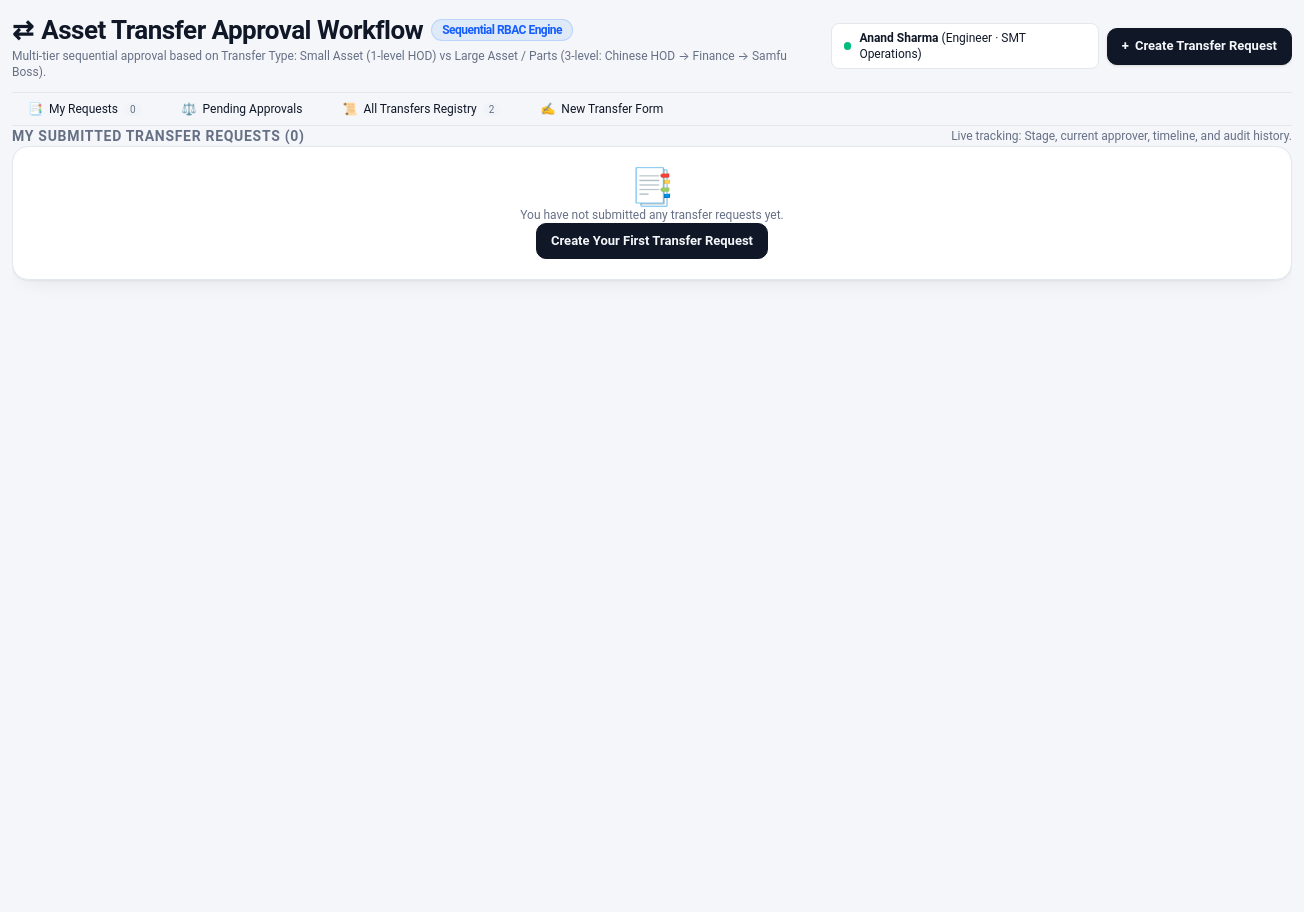
Asset Transfer Approval Workflow (RBAC & Sequential Stage Invariants) › Requirement 2: Large Asset Transfer requires 3 sequential approvals (Chinese HOD -> Finance -> Samfu Boss)
# Switch to New Transfer tab
Click the button "✍️ New Transfer Form" at {"x": 602, "y": 109}, box [524,93,679,125]
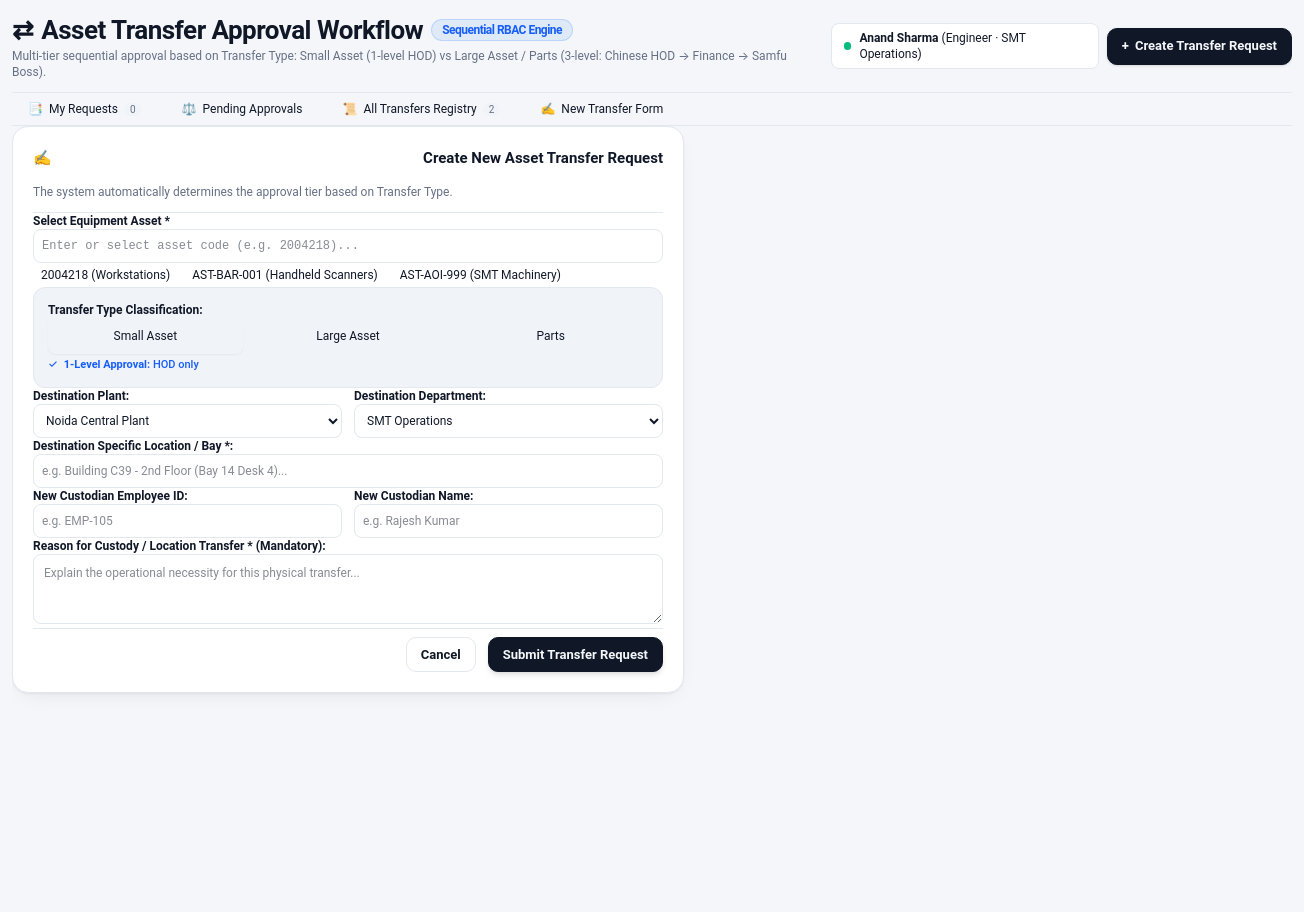
# Select Large Asset (High cost / Machinery)
Click the button "AST-AOI-999 (SMT Machinery)" at {"x": 480, "y": 275}, box [392,263,569,287]
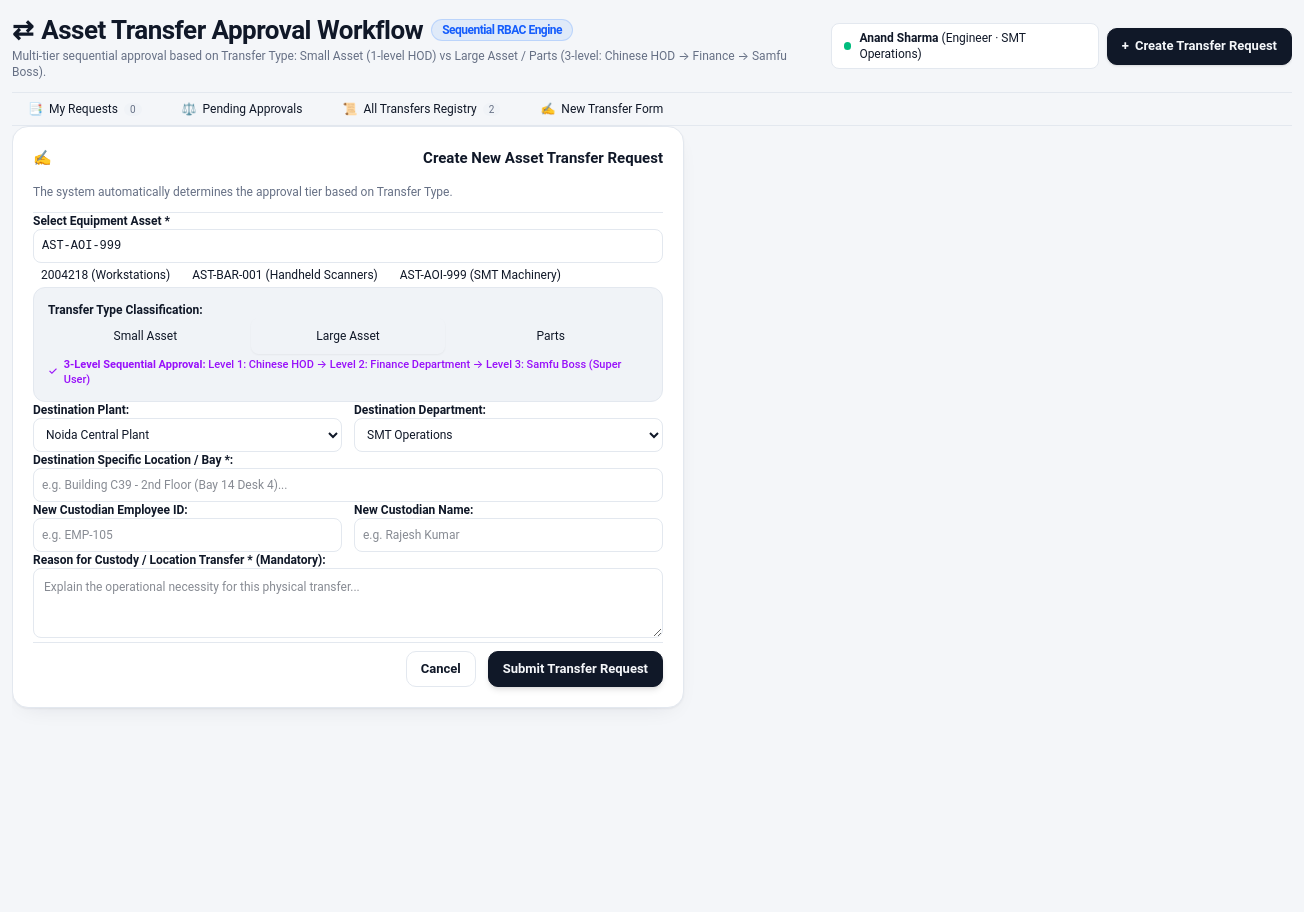
Now the text "3-Level Sequential Approval:" is shown, box [64,358,206,371]
# Fill form and submit
Type "D197-2F Line 4" into the field with placeholder "e.g. Building C39 - 2nd Floor (Bay 14 Desk 4)..." at {"x": 348, "y": 485}, box [33,468,663,502]
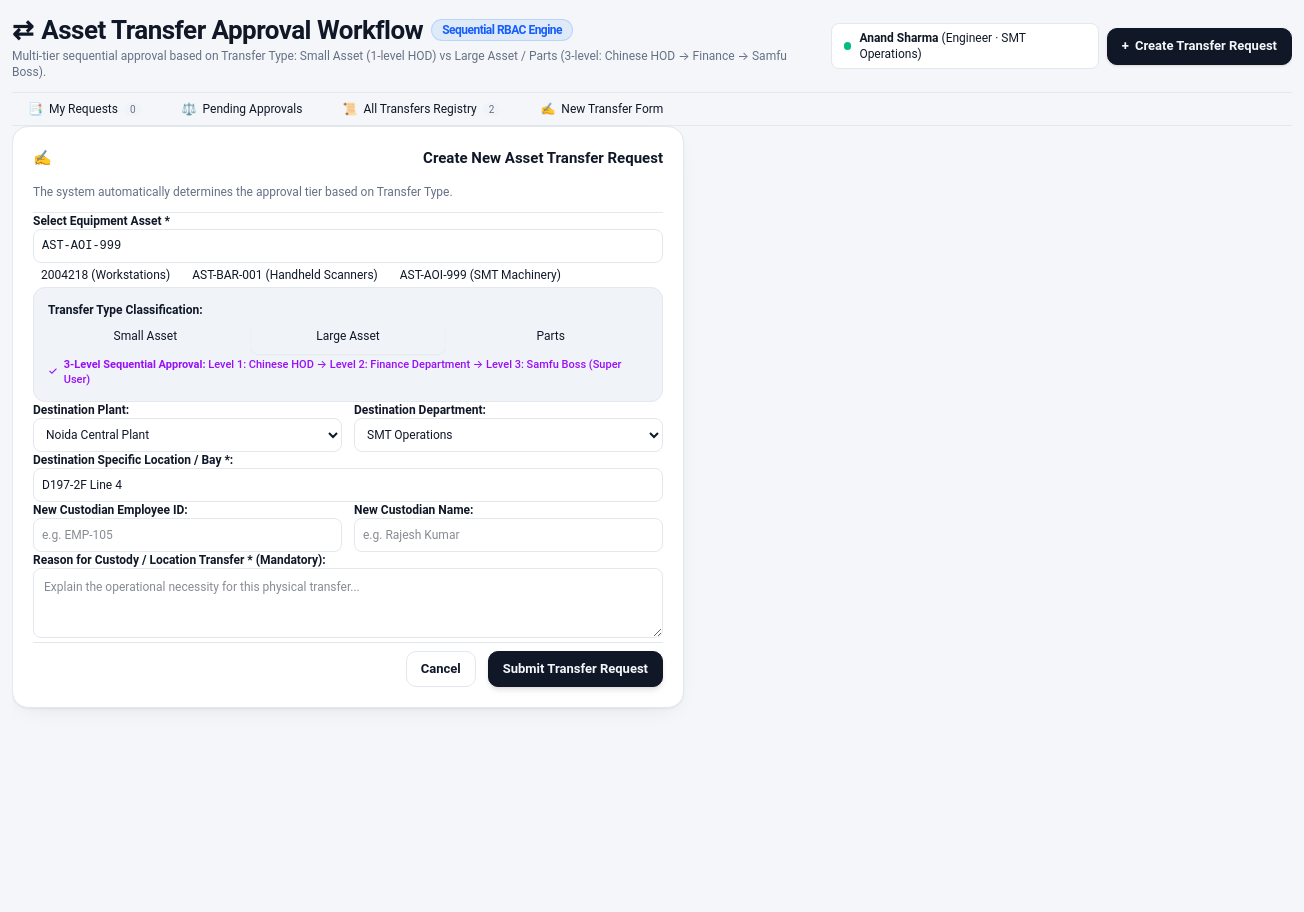
Replace the text in the text box with placeholder "Explain the operational necessity" with "High precision AOI required for new PCB batch" at {"x": 348, "y": 603}, box [33,568,663,638]
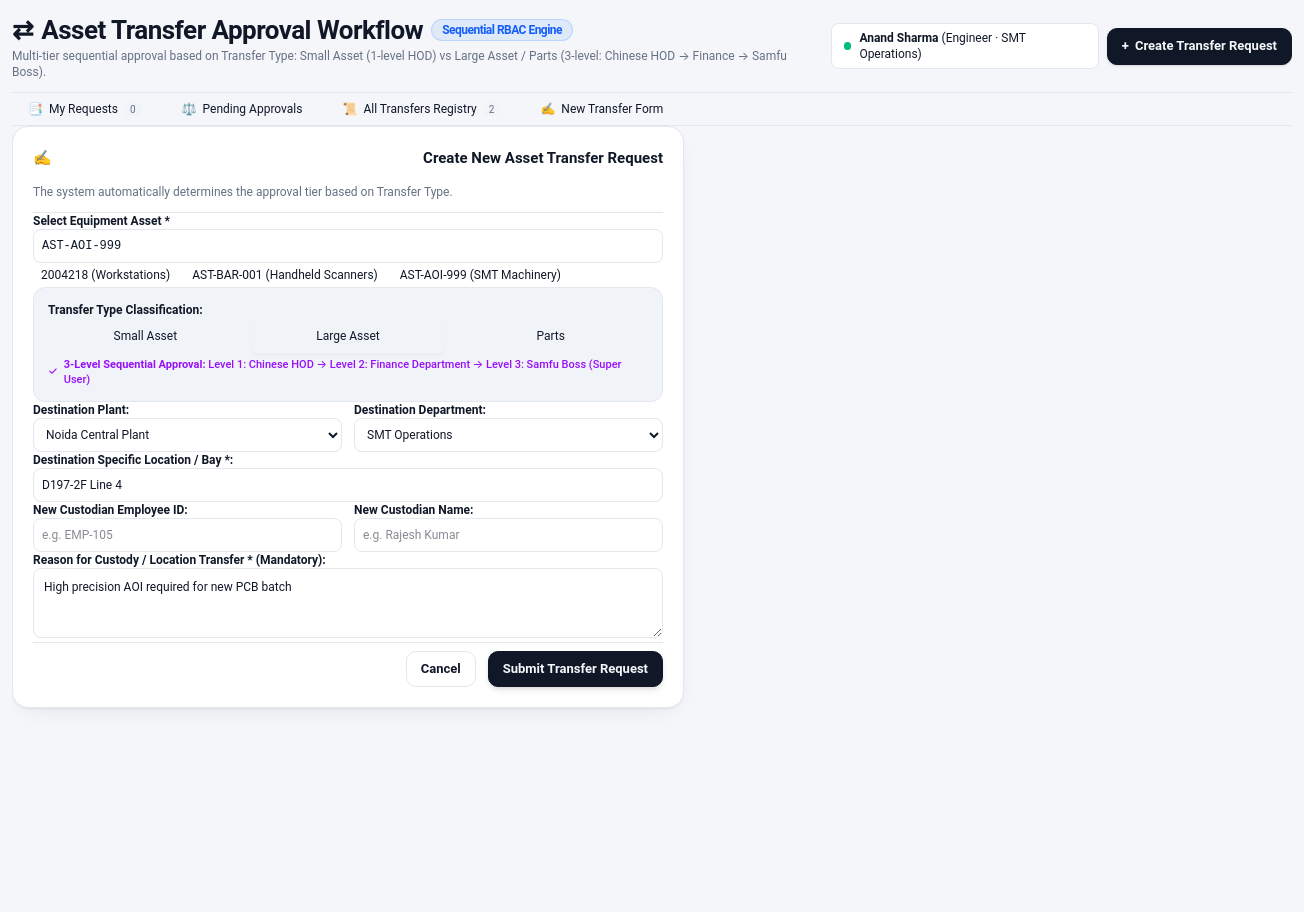
Click the button "Submit Transfer Request" at {"x": 575, "y": 669}, box [488,651,663,686]
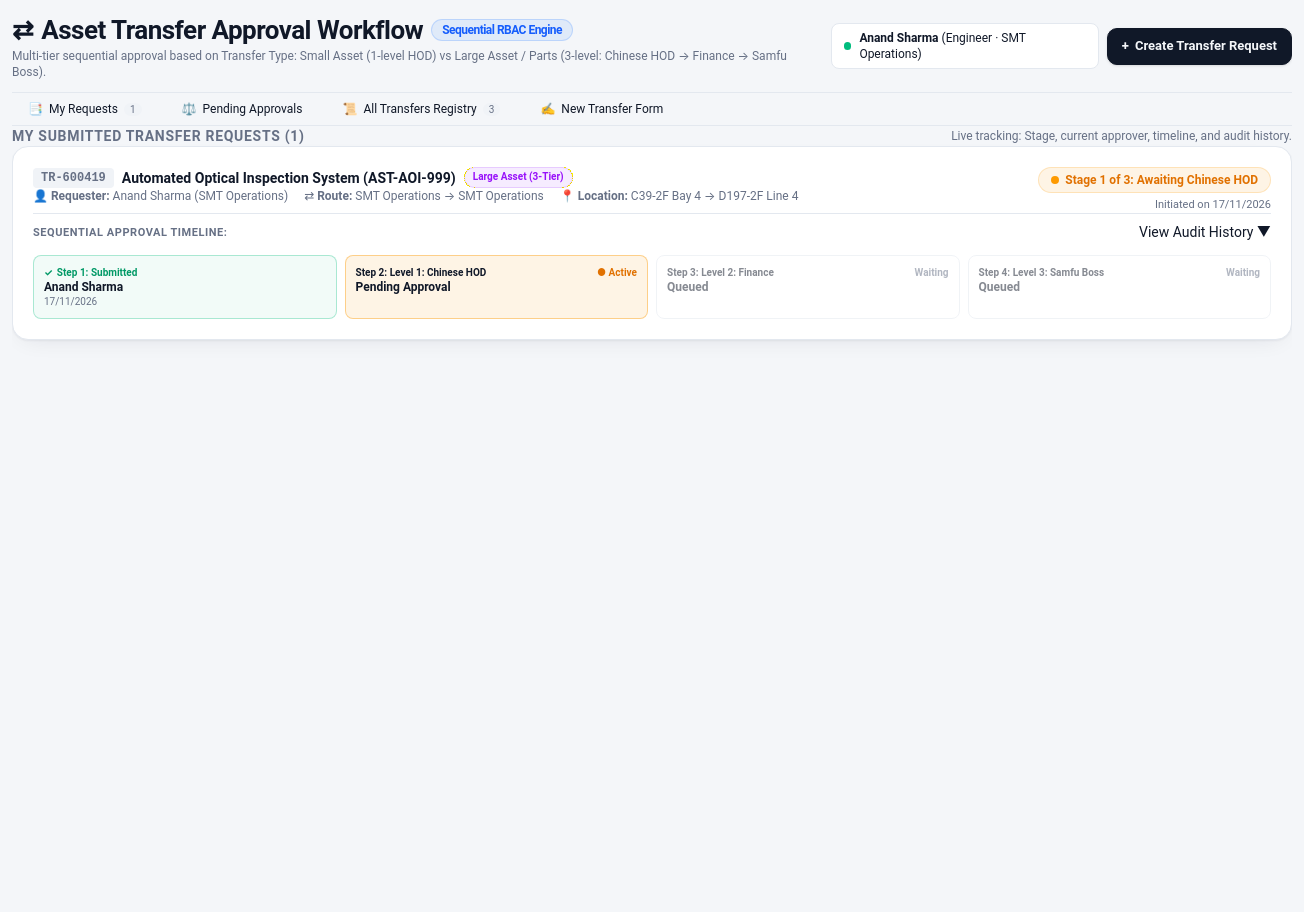
Now the text "Stage 1 of 3: Awaiting Chinese HOD" is shown, box [1065,172,1258,188]
